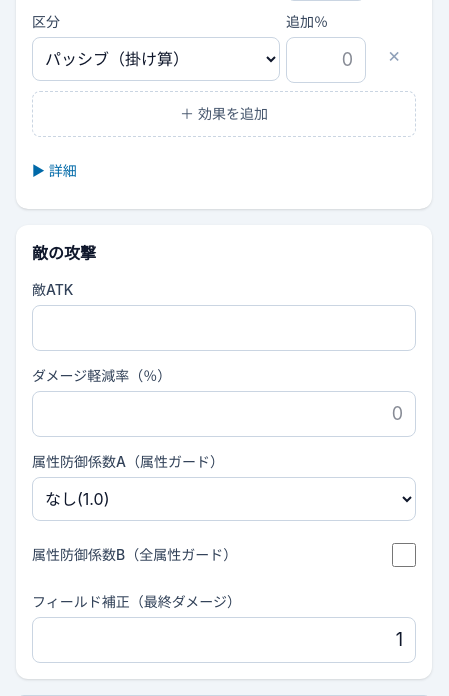
App（目安表示・エラー表示） › 軽減率が範囲外のときは 0〜100 を案内するエラーを出す
The width and height of the screenshot is (449, 696).
(page scrolled)
Type "101" into the field labelled "ダメージ軽減率（％）". click: (224, 414)
box: [32,391,416,437]
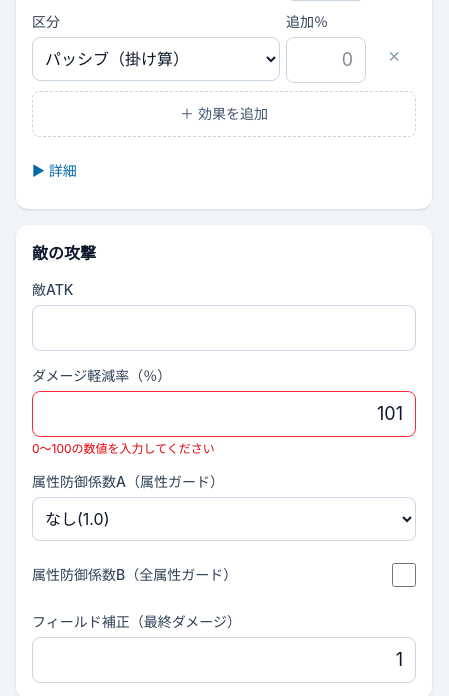
Check: the text "0〜100の数値を入力してください" is shown, box [32,441,215,456]
